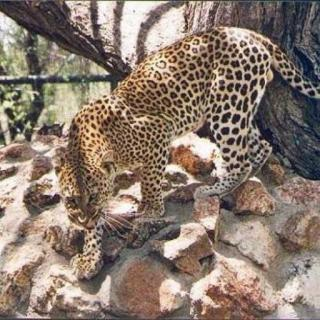Leopard: (43, 17, 314, 295)
